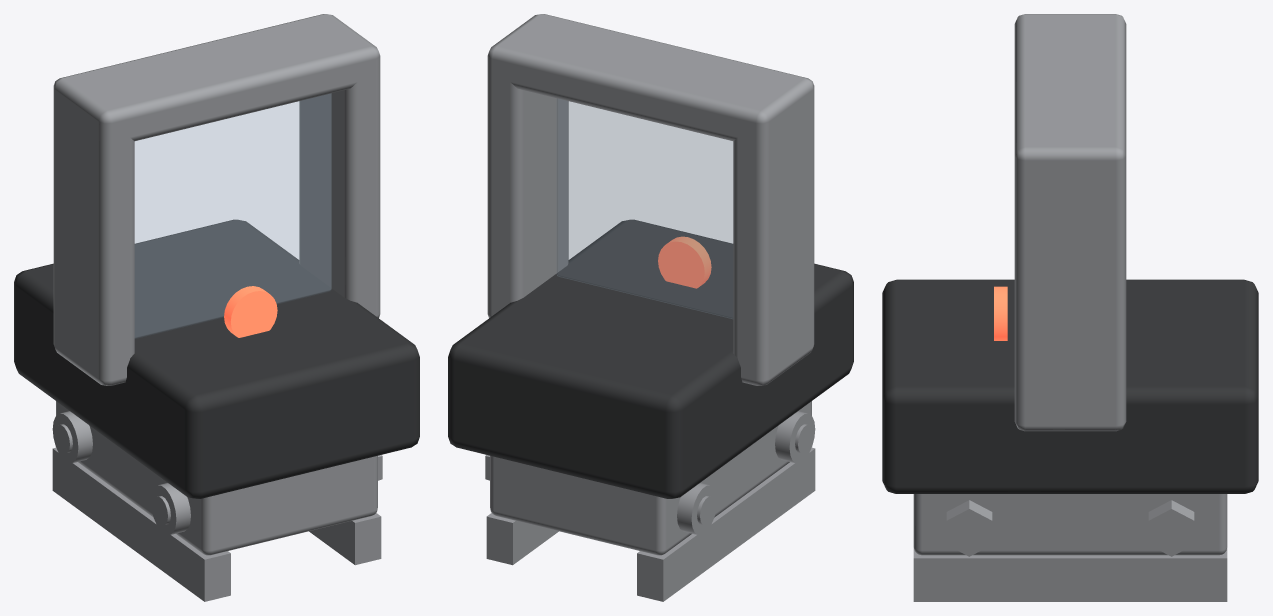
Rendered from fps-weapon-set-and-firing-range-red-dot-sight-4fa59203__19443.glb.
3 views of the same model, side by side, from view 1: azimuth 30°, elevation 25°; view 2: azimuth 150°, elevation 25°; view 3: azimuth 270°, elevation 25° (orthographic). The views are drawn at different scales.
Visible parts, largest first — view 1: red-dot-sight; view 2: red-dot-sight; view 3: red-dot-sight.
Part boxes in pixels (x1,y1,x2,y2): red-dot-sight: (14, 14, 419, 601); red-dot-sight: (448, 14, 853, 601); red-dot-sight: (882, 14, 1258, 601).
Size of the model in its own units: 0.048 by 0.0755 by 0.054.
